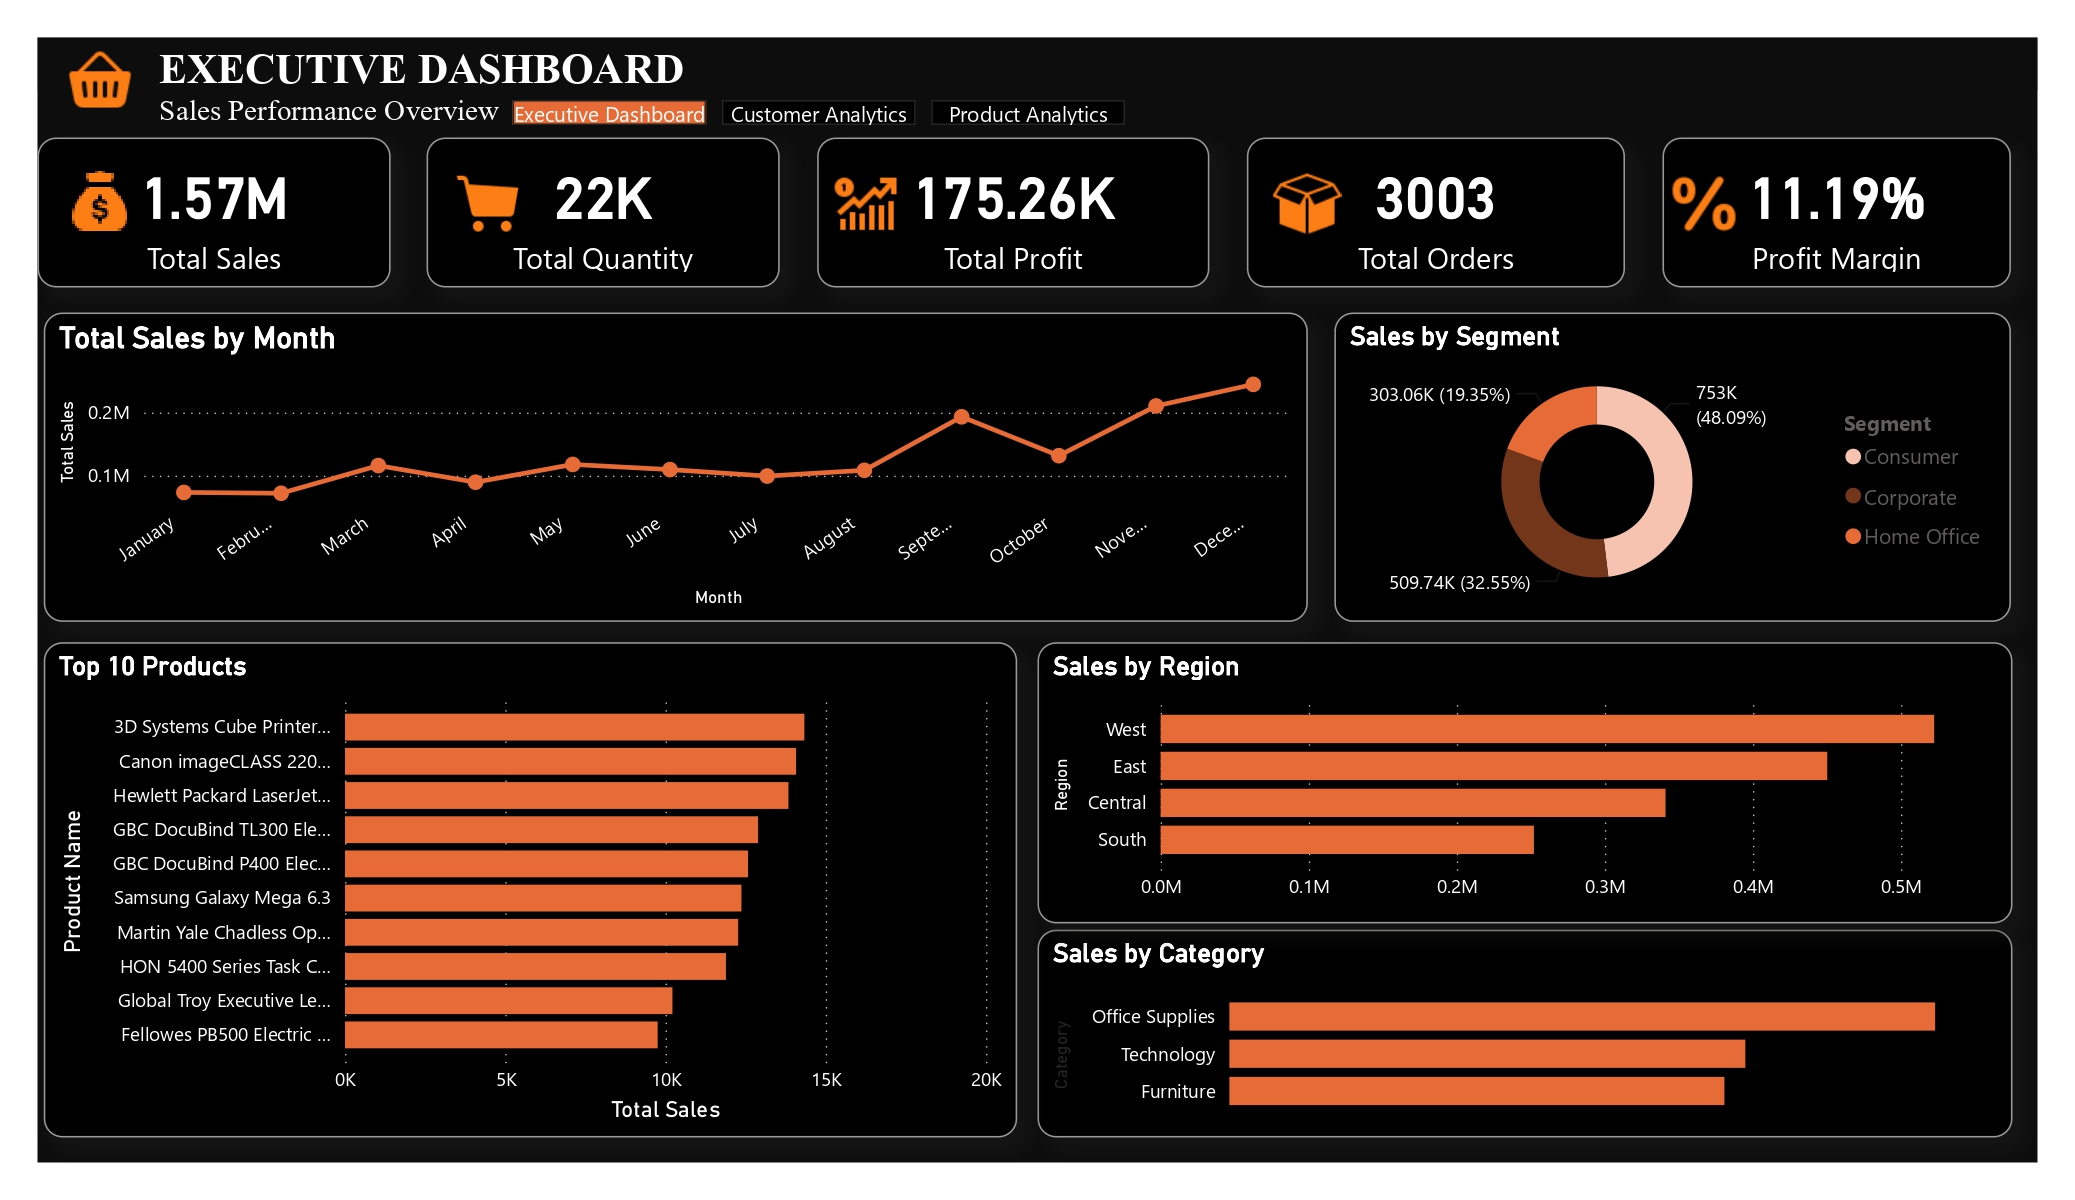

What the dashboard file says about the page in this screenshot:
{"tool":"powerbi","page":{"name":"Executive Dashboard","canvas":[1280,720],"ordinal":0},"visuals":[{"type":"card","fields":{"Values":["SuperStore_Sales_Dataset.Total Quantity"]},"box":[249.3,64.3,225.7,95.7],"z":0},{"type":"textbox","box":[0,0,1280,71.4],"z":1000},{"type":"card","fields":{"Values":["SuperStore_Sales_Dataset.Total Sales"]},"box":[0,64.3,225.7,95.7],"z":2000},{"type":"card","fields":{"Values":["SuperStore_Sales_Dataset.Total Profit"]},"box":[498.6,64.3,251.4,95.7],"z":3000},{"type":"card","fields":{"Values":["SuperStore_Sales_Dataset.Total Orders"]},"box":[773.6,64.3,242.9,95.7],"z":4000},{"type":"card","fields":{"Values":["SuperStore_Sales_Dataset.Profit Margin"]},"box":[1040,64.3,222.9,95.7],"z":5000},{"type":"image","box":[12.9,78.6,54.3,54.3],"z":6000},{"type":"image","box":[502.9,78.6,54.3,54.3],"z":7000},{"type":"image","box":[262.9,78.6,54.3,54.3],"z":8000},{"type":"image","box":[785.7,78.6,54.3,54.3],"z":9000},{"type":"image","box":[1040,78.6,54.3,54.3],"z":10000},{"type":"image","box":[0,0,80,52.9],"z":11000},{"type":"lineChart","fields":{"Category":["SuperStore_Sales_Dataset.Order Date.Variation.Date Hierarchy.Month"],"Y":["SuperStore_Sales_Dataset.Total Sales"]},"box":[4.3,175.7,808.6,198.6],"z":12000},{"type":"clusteredBarChart","title":"Sales by Category","fields":{"Category":["SuperStore_Sales_Dataset.Category"],"Y":["SuperStore_Sales_Dataset.Total Sales"]},"box":[640,571.4,624.3,132.9],"z":13000},{"type":"clusteredBarChart","title":"Sales by Region","fields":{"Category":["SuperStore_Sales_Dataset.Region"],"Y":["SuperStore_Sales_Dataset.Total Sales"]},"box":[640,387.1,624.3,180],"z":14000},{"type":"clusteredBarChart","title":"Top 10 Products","fields":{"Category":["SuperStore_Sales_Dataset.Product Name"],"Y":["SuperStore_Sales_Dataset.Total Sales"]},"box":[4.3,387.1,622.9,317.1],"z":15000},{"type":"donutChart","title":"Sales by Segment","fields":{"Category":["SuperStore_Sales_Dataset.Segment"],"Y":["SuperStore_Sales_Dataset.Total Sales"]},"box":[830,175.7,432.9,198.6],"z":16000},{"type":"pageNavigator","box":[304,40,392,16],"z":16001}]}

Visuals, with their boxes on the page's 1280x720 design canvas (x1, y1, x2, y2). These are canvas units, not pixel positions in the 2075x1200 screenshot, which may show the page scaled, cropped or inside an application window:
card - SuperStore_Sales_Dataset.Total Quantity: x1=249 y1=64 x2=475 y2=160
textbox: x1=0 y1=0 x2=1280 y2=71
card - SuperStore_Sales_Dataset.Total Sales: x1=0 y1=64 x2=226 y2=160
card - SuperStore_Sales_Dataset.Total Profit: x1=499 y1=64 x2=750 y2=160
card - SuperStore_Sales_Dataset.Total Orders: x1=774 y1=64 x2=1016 y2=160
card - SuperStore_Sales_Dataset.Profit Margin: x1=1040 y1=64 x2=1263 y2=160
image: x1=13 y1=79 x2=67 y2=133
image: x1=503 y1=79 x2=557 y2=133
image: x1=263 y1=79 x2=317 y2=133
image: x1=786 y1=79 x2=840 y2=133
image: x1=1040 y1=79 x2=1094 y2=133
image: x1=0 y1=0 x2=80 y2=53
lineChart - SuperStore_Sales_Dataset.Order Date.Variation.Date Hierarchy.Month x SuperStore_Sales_Dataset.Total Sales: x1=4 y1=176 x2=813 y2=374
"Sales by Category" clusteredBarChart: x1=640 y1=571 x2=1264 y2=704
"Sales by Region" clusteredBarChart: x1=640 y1=387 x2=1264 y2=567
"Top 10 Products" clusteredBarChart: x1=4 y1=387 x2=627 y2=704
"Sales by Segment" donutChart: x1=830 y1=176 x2=1263 y2=374
pageNavigator: x1=304 y1=40 x2=696 y2=56
